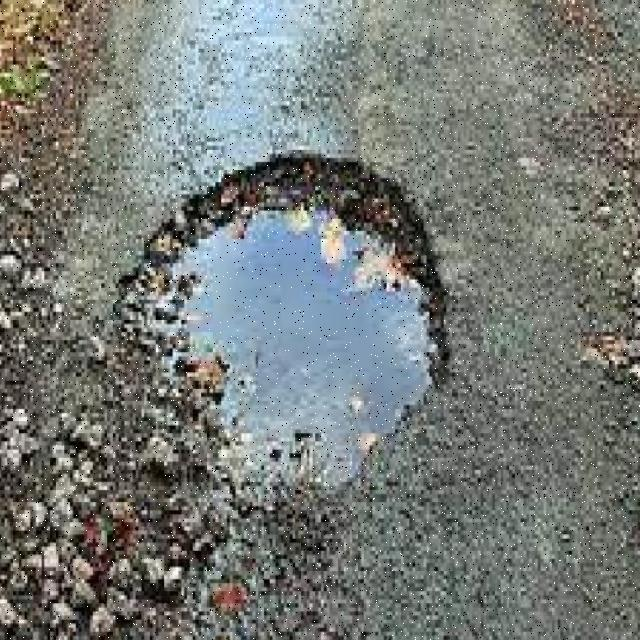pothole: (130, 158, 438, 490)
